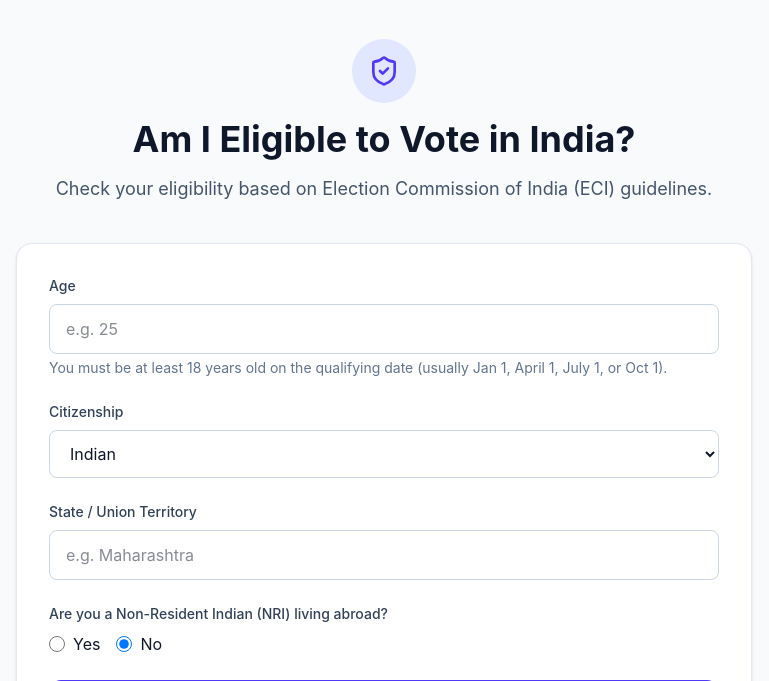
Test case: Eligibility Component › handles API errors gracefully
This screenshot has width=769, height=681.
Type "25" into the number field labelled "Age" at [384, 329], box [49, 304, 719, 354]
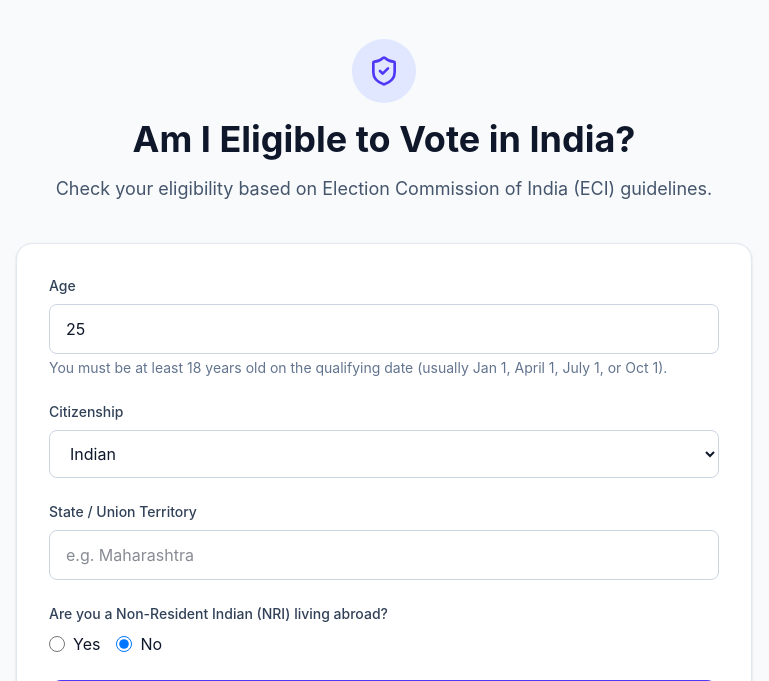
Type "Maharashtra" into the field labelled "State / Union Territory" at [384, 555], box [49, 530, 719, 580]
(page scrolled)
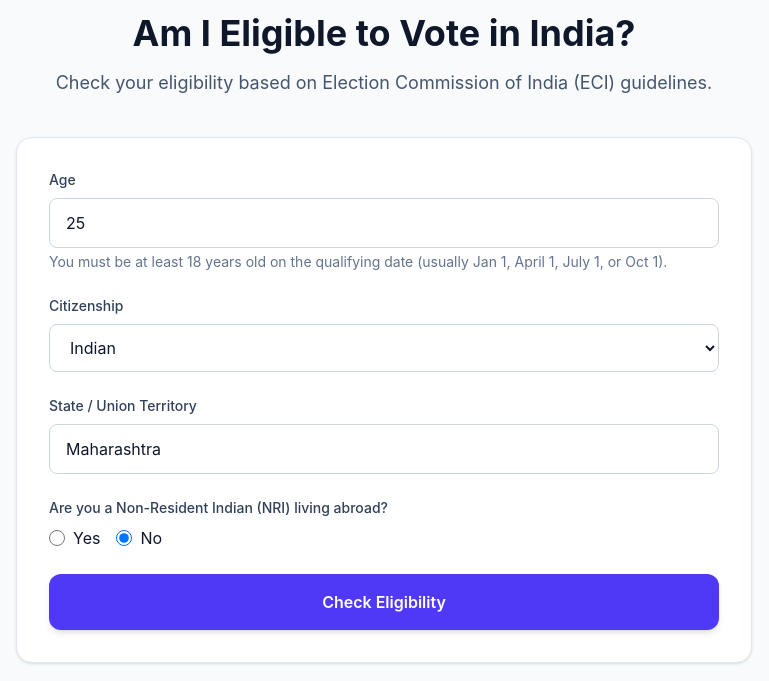
Click the button "Check Eligibility" at [384, 602], box [49, 574, 719, 630]
(page scrolled)
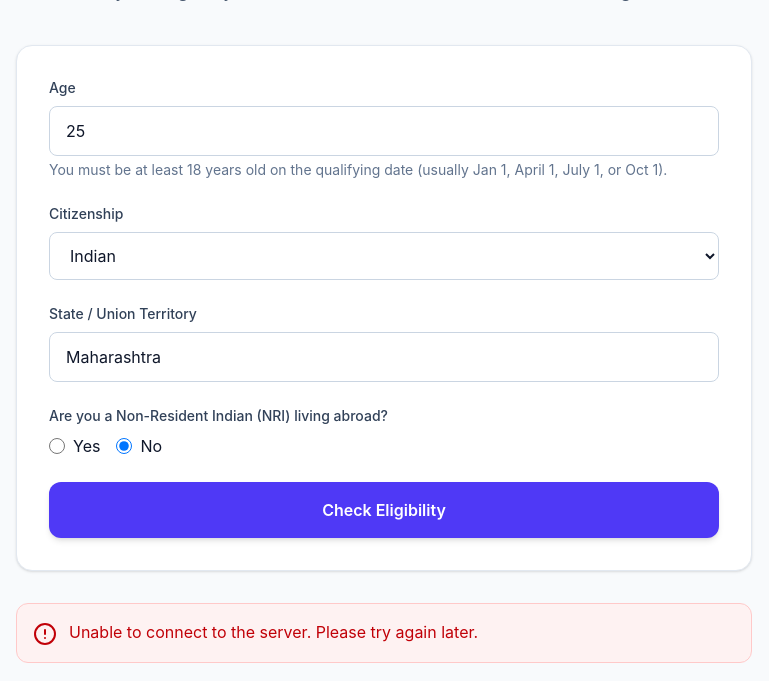
Check: the text "Unable to connect to the server. Please try again later." is shown, box [69, 620, 478, 644]
